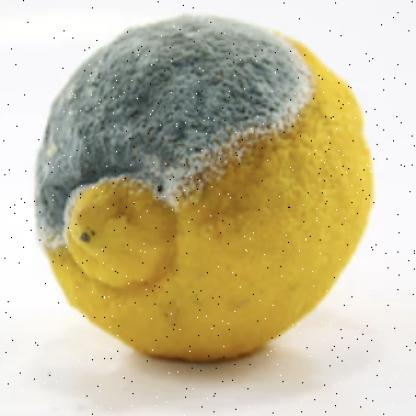rotten: (38, 16, 377, 362)
